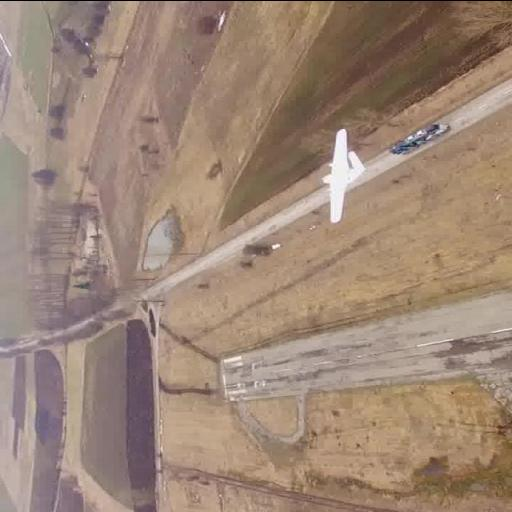uav: (314, 127, 374, 225)
